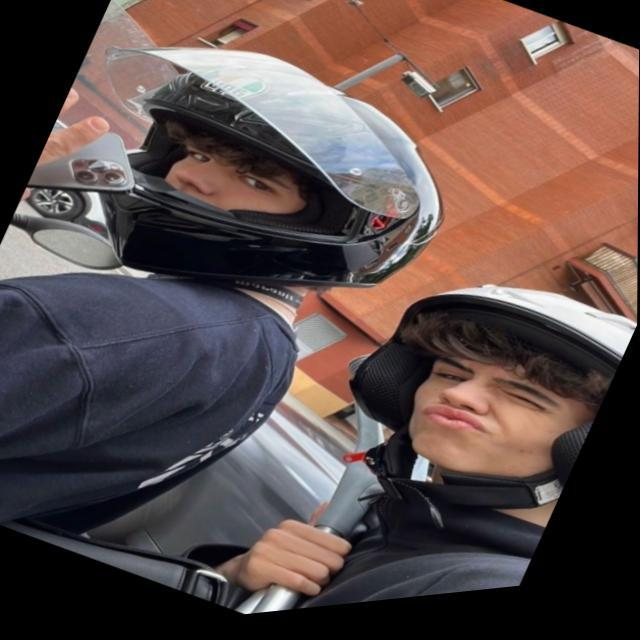Helmet: (90, 36, 451, 306), (340, 284, 639, 502)
